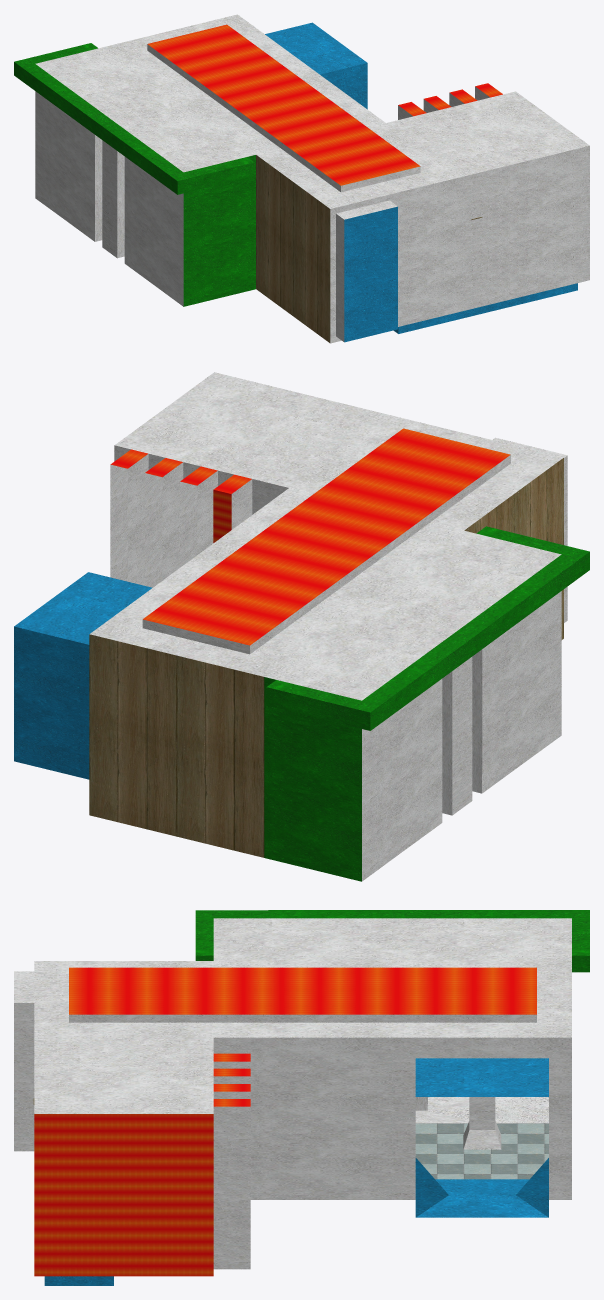
File: koupelna4-windows.dae
3 renders of one model, top to bottom at view 1: azimuth 30°, elevation 25°; view 2: azimuth 150°, elevation 25°; view 3: azimuth 270°, elevation 25°, orthographic. The views are drawn at different scales.
Visible parts, largest first — view 1: steny; view 2: steny; view 3: steny.
Boxes of the visible parts, x1,y1,x2,y2 form: steny: [14, 14, 589, 343]; steny: [14, 372, 589, 881]; steny: [14, 910, 589, 1285].
Size of the model in its own units: 6.85 by 8.18 by 2.89.
7 materials, 6 textured.
